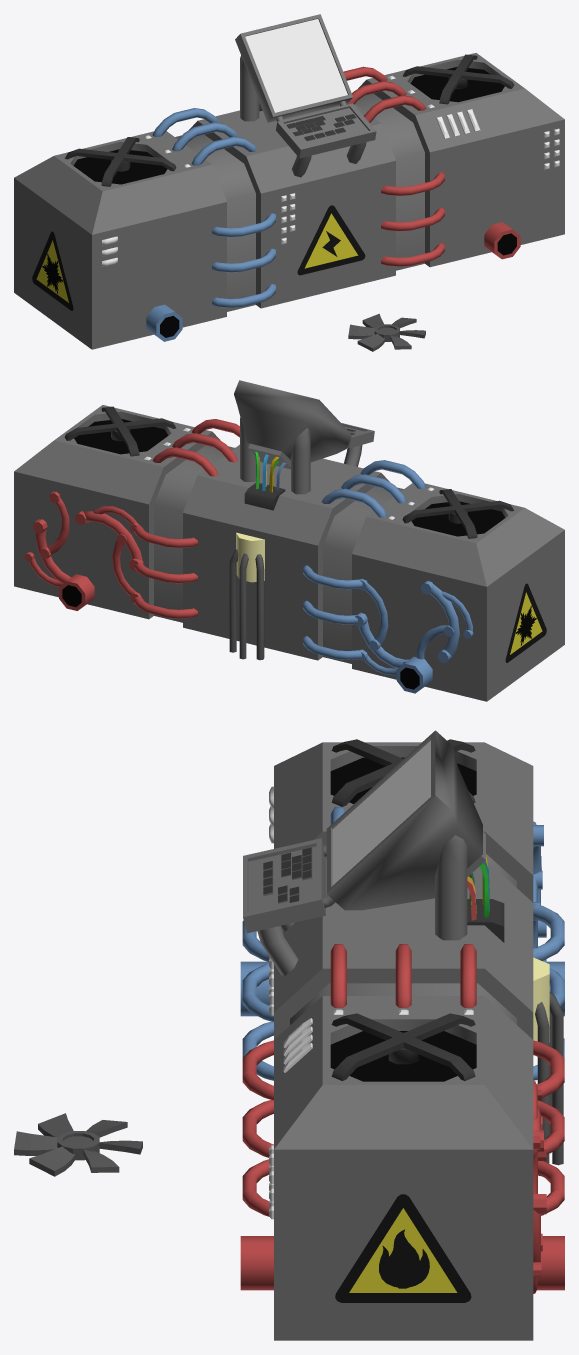
The model's file is ThermalElectricGenerator.fbx.
The picture shows the model from 3 angles, top to bottom: view 1: azimuth 30°, elevation 25°; view 2: azimuth 150°, elevation 25°; view 3: azimuth 270°, elevation 25°; orthographic projection. The views are drawn at different scales.
Parts seen in each view (by area): view 1: ThermalElectricGeneratorControl, ThermalElectricGeneratorCold, ThermalElectricGeneratorHot, ThermalElectricGeneratorFan; view 2: ThermalElectricGeneratorControl, ThermalElectricGeneratorCold, ThermalElectricGeneratorHot; view 3: ThermalElectricGeneratorHot, ThermalElectricGeneratorControl, ThermalElectricGeneratorCold, ThermalElectricGeneratorFan.
Boxes of the visible parts, <box> form: ThermalElectricGeneratorControl: <box>184,14,422,308</box>; ThermalElectricGeneratorCold: <box>14,110,253,349</box>; ThermalElectricGeneratorHot: <box>353,53,564,267</box>; ThermalElectricGeneratorFan: <box>348,313,425,351</box>; ThermalElectricGeneratorControl: <box>156,380,394,660</box>; ThermalElectricGeneratorCold: <box>325,462,564,701</box>; ThermalElectricGeneratorHot: <box>14,405,225,619</box>; ThermalElectricGeneratorHot: <box>240,954,564,1340</box>; ThermalElectricGeneratorControl: <box>242,730,564,1183</box>; ThermalElectricGeneratorCold: <box>240,739,564,1046</box>; ThermalElectricGeneratorFan: <box>14,1113,142,1176</box>.
Bounding box in the file's own units: 281 × 136 × 170.
